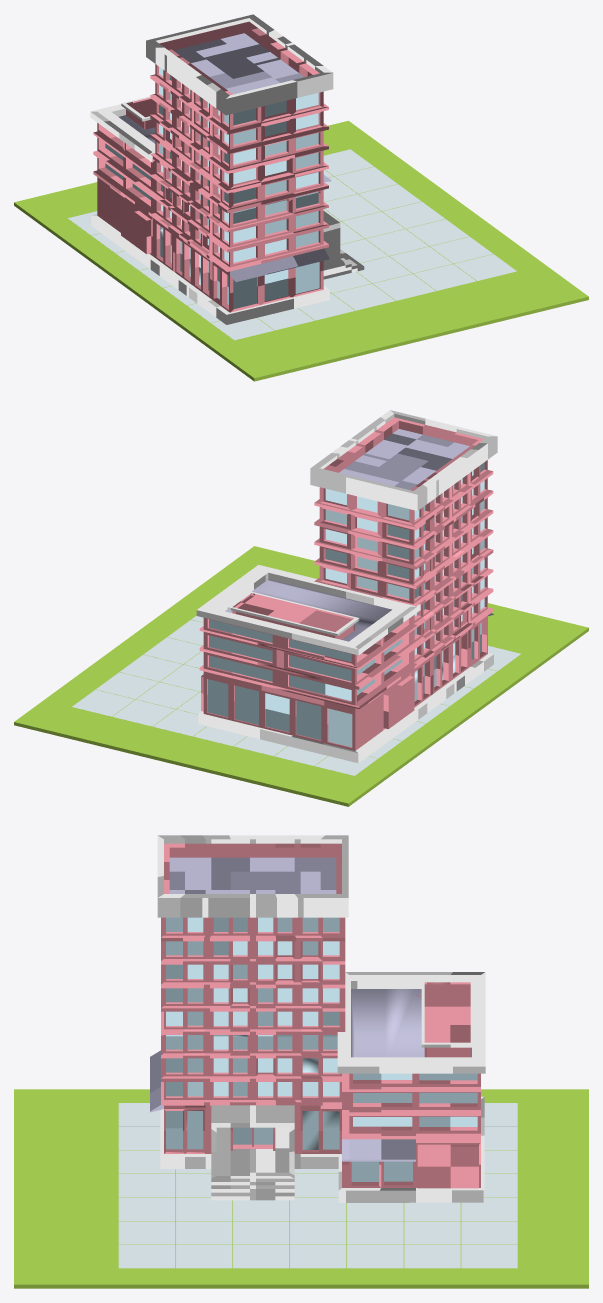
Rendered from building6.glb.
The picture shows the model from 3 angles, top to bottom: view 1: azimuth 30°, elevation 25°; view 2: azimuth 150°, elevation 25°; view 3: azimuth 270°, elevation 25°; orthographic projection. The views are drawn at different scales.
Visible parts, largest first — view 1: Floor_1; view 2: Floor_1; view 3: Floor_1.
Boxes of the visible parts, x1=… form: Floor_1: x1=14, y1=14, x2=588, y2=381; Floor_1: x1=14, y1=410, x2=588, y2=806; Floor_1: x1=14, y1=835, x2=588, y2=1288.
Size of the model in its own units: 1.22 by 0.8039 by 1.52.
